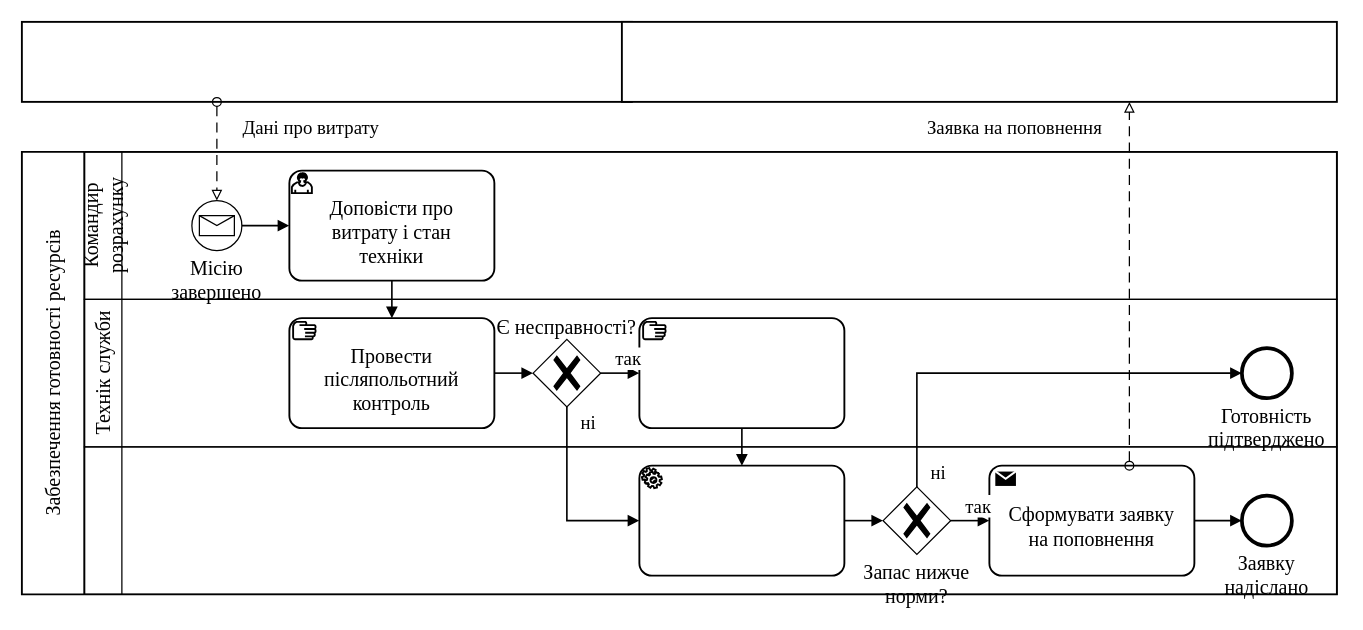
The diagram is 1363 pixels wide and 630 high, and some of its shapes have lost their labels. Here are the shapes that lost their labels. From the top down, the box of each, then its label:
(20, 20, 632, 102): Виконання місії перехоплення
(620, 20, 1337, 102): Постачальник перехоплювачів і АКБ
(638, 317, 845, 428): Відремонтувати або списати техніку
(83, 446, 1337, 594): Логіст
(638, 464, 845, 576): Оновити облік запасів і готовності
